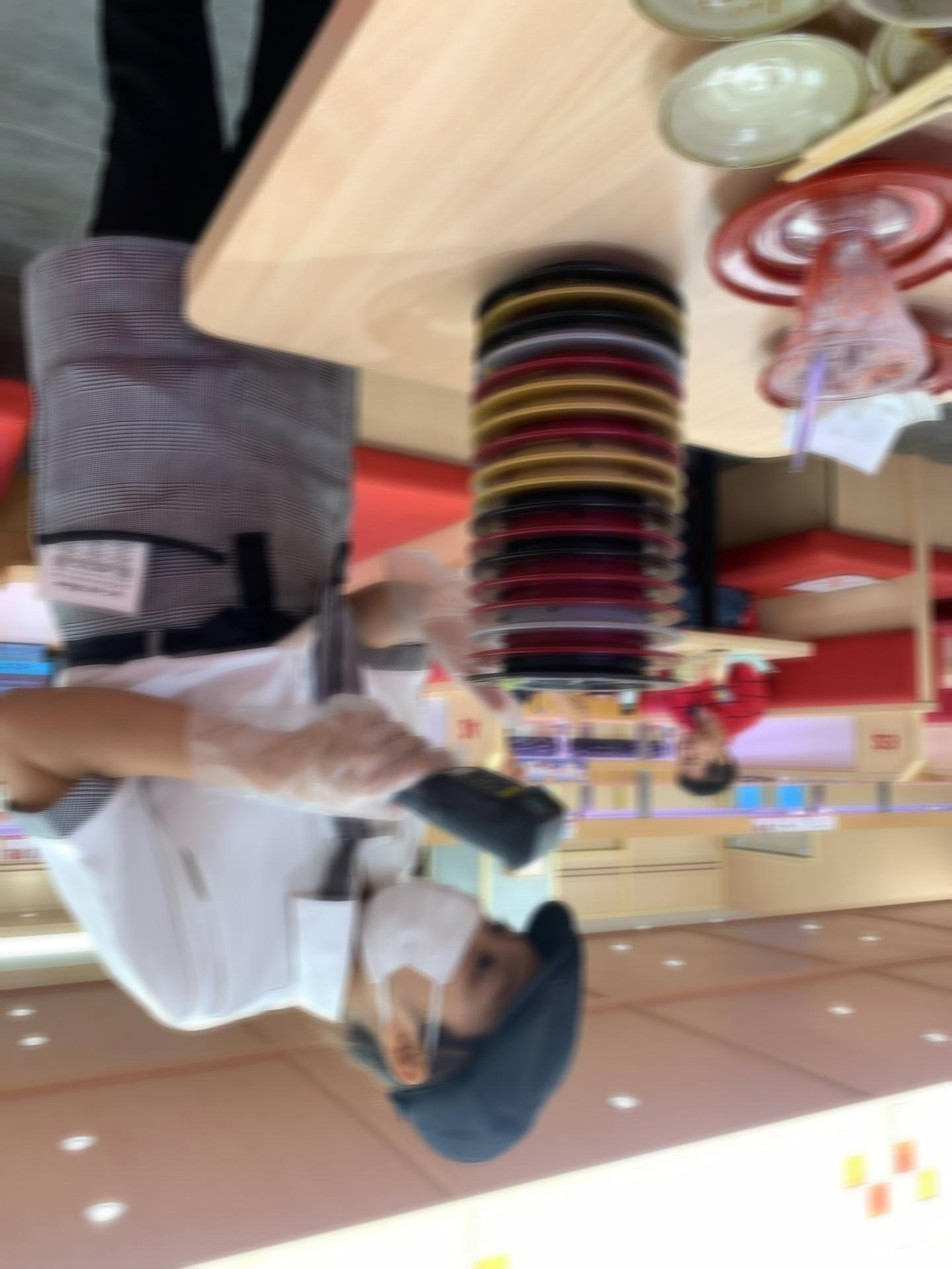Janback: (471, 665, 691, 688), (477, 493, 675, 512), (496, 262, 665, 280), (467, 545, 694, 558), (489, 311, 683, 323)
Jangold: (486, 400, 680, 426), (498, 469, 670, 490), (511, 285, 670, 307), (498, 448, 669, 468), (507, 376, 672, 395)
Janred: (481, 588, 682, 606), (470, 639, 689, 655), (488, 566, 666, 583), (485, 520, 670, 536), (508, 354, 670, 372), (498, 426, 667, 440)
Janwhite: (488, 613, 674, 631), (494, 334, 669, 346)
